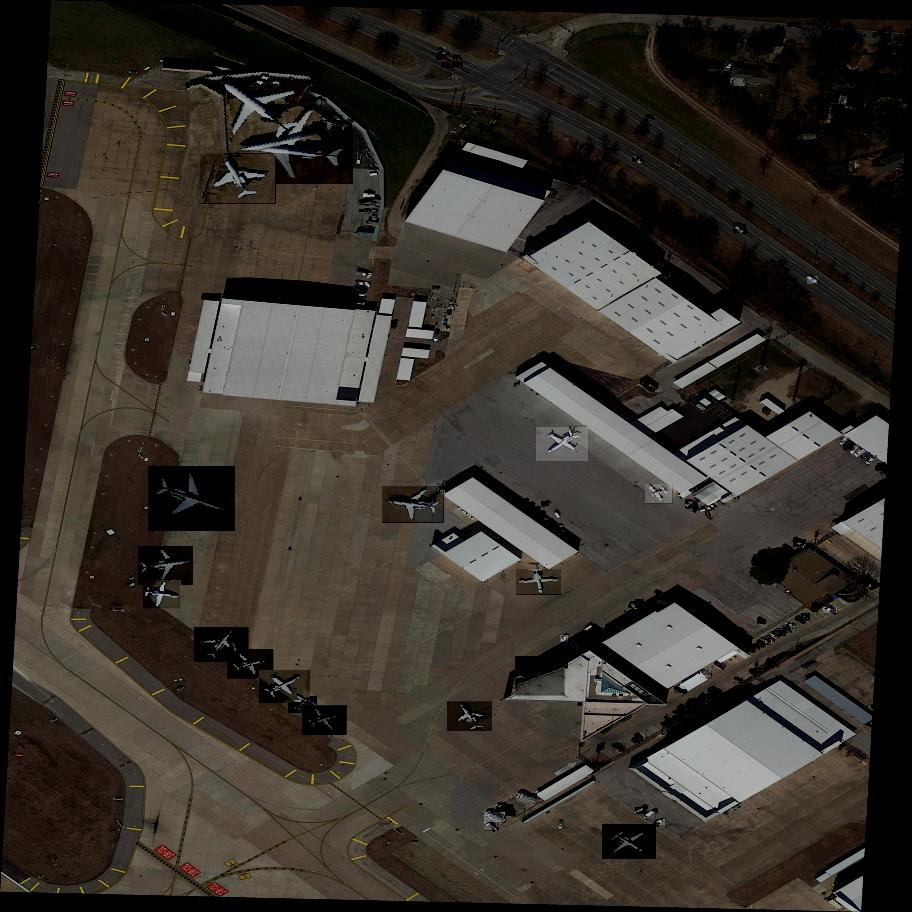large-vehicle: (496, 803, 514, 818), (484, 812, 505, 824), (516, 793, 538, 803)
plane: (190, 45, 322, 170), (225, 120, 353, 186), (148, 464, 235, 533), (200, 151, 275, 207), (603, 816, 657, 867), (382, 485, 444, 525), (537, 420, 588, 468), (260, 664, 311, 709), (195, 623, 248, 666), (448, 692, 492, 741), (138, 547, 194, 585), (515, 656, 567, 696), (303, 698, 347, 742), (228, 646, 274, 683), (313, 106, 353, 141), (143, 581, 181, 610), (517, 570, 561, 595), (645, 479, 673, 508), (288, 695, 317, 716)
small-vehicle: (685, 498, 699, 511), (633, 245, 649, 256), (860, 574, 872, 587), (484, 821, 497, 833), (865, 454, 877, 467), (611, 743, 626, 752), (650, 260, 665, 269), (559, 220, 570, 232), (645, 811, 657, 822), (634, 732, 646, 743), (793, 539, 806, 549), (357, 269, 371, 278), (734, 224, 746, 234), (696, 297, 708, 307), (807, 275, 819, 285), (864, 579, 877, 588), (630, 735, 641, 745), (855, 449, 866, 459), (700, 669, 710, 679), (876, 463, 886, 473), (671, 277, 681, 287), (861, 451, 870, 462), (824, 607, 838, 614), (547, 226, 559, 234), (635, 807, 647, 815), (553, 524, 563, 533), (628, 601, 638, 610), (782, 625, 791, 635), (519, 498, 529, 507), (512, 496, 521, 506), (716, 662, 726, 671), (851, 444, 860, 454), (841, 437, 850, 447), (654, 819, 665, 827), (436, 54, 447, 62), (675, 685, 686, 693), (801, 613, 810, 622), (746, 645, 755, 654), (592, 631, 601, 640), (654, 601, 663, 610), (632, 156, 642, 164), (766, 633, 774, 643), (761, 638, 771, 646), (355, 283, 368, 289), (603, 628, 614, 635), (770, 631, 779, 639), (439, 47, 448, 55), (560, 635, 569, 643), (785, 623, 795, 630), (453, 62, 463, 69), (844, 444, 854, 451), (774, 630, 785, 636), (795, 617, 806, 623), (534, 513, 545, 519), (526, 502, 534, 510), (557, 530, 566, 537), (758, 639, 765, 648), (713, 689, 722, 696), (646, 114, 653, 123), (441, 63, 451, 69), (356, 287, 366, 293), (627, 614, 637, 620), (657, 600, 667, 606), (568, 537, 576, 544), (612, 624, 619, 632), (623, 616, 631, 623), (636, 599, 643, 607), (529, 510, 540, 515), (734, 678, 743, 684), (662, 597, 672, 602), (542, 501, 549, 508), (752, 644, 760, 650), (758, 619, 766, 625), (563, 534, 571, 540), (706, 510, 712, 518), (545, 520, 553, 525), (558, 821, 563, 828), (787, 25, 799, 27), (392, 320, 396, 326), (454, 55, 461, 58), (539, 518, 548, 520), (881, 471, 885, 473)
